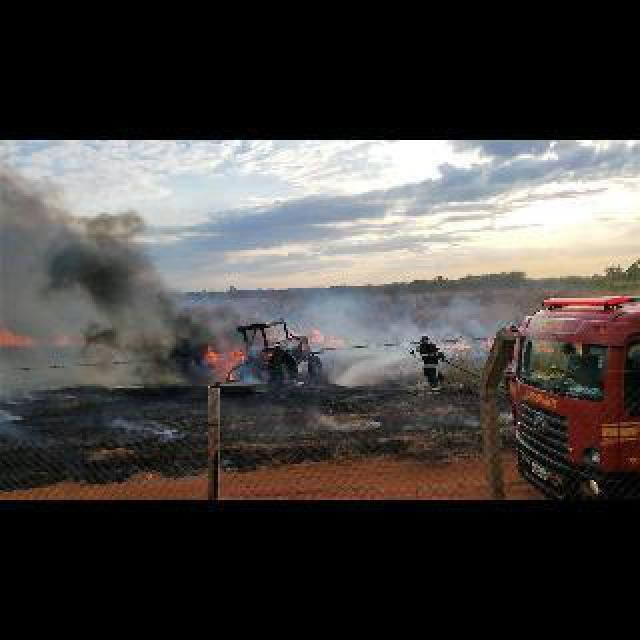Fire: (290, 324, 346, 350), (4, 328, 84, 346), (208, 346, 240, 378), (444, 336, 492, 356)
Smoke: (35, 227, 145, 315), (151, 302, 213, 384)
